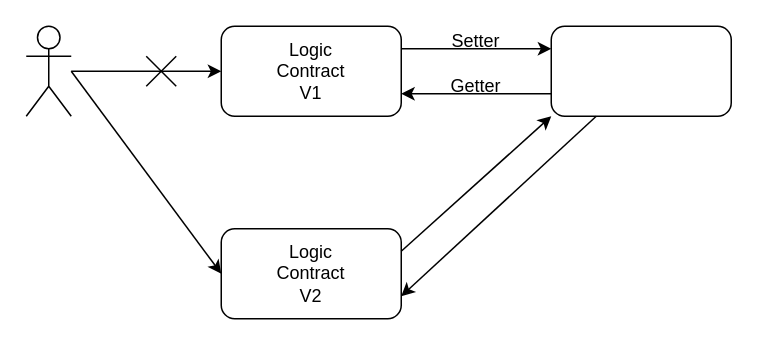
The diagram is 758 pixels wide and 345 high, and some of its shapes have lost their labels. The centre of each missing label's shape, as x and y in pixels:
"Data Contract" goes at (640,70).
"User" goes at (48,70).
